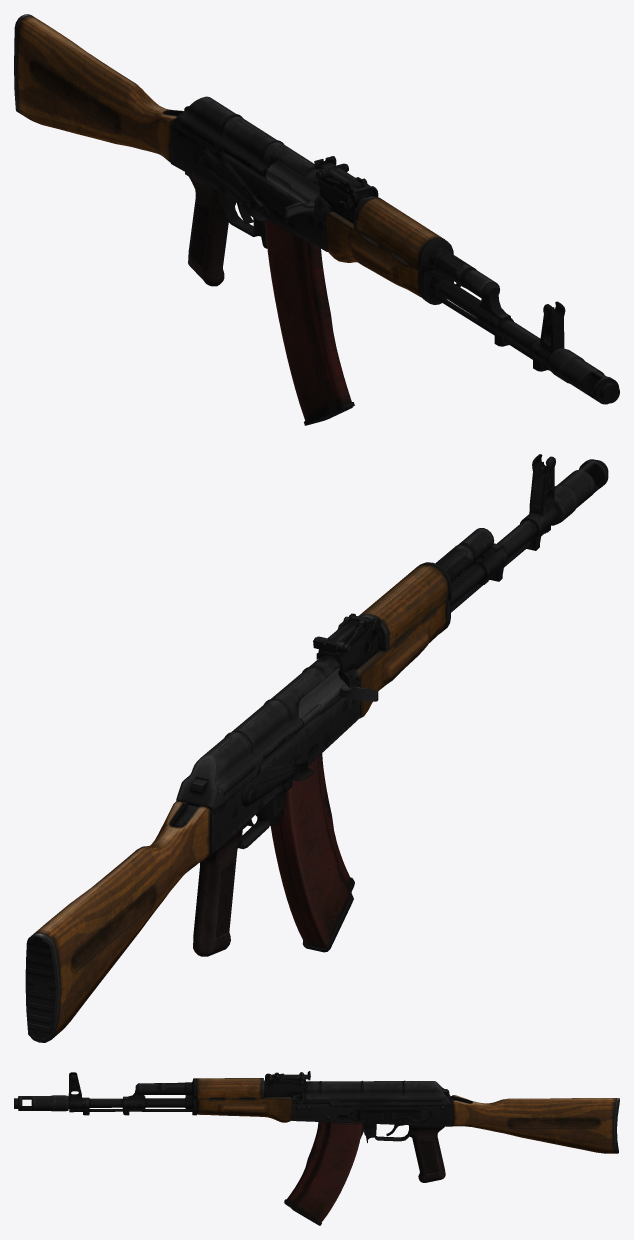
Rendered from weapon_ak47.fbx.
3 views of the same model, one above another, from view 1: azimuth 30°, elevation 25°; view 2: azimuth 150°, elevation 25°; view 3: azimuth 270°, elevation 25° (orthographic). The views are drawn at different scales.
Parts seen in each view (by area): view 1: SMDImport; view 2: SMDImport; view 3: SMDImport.
Part boxes in pixels (<box>): SMDImport: <box>14,14,619,425</box>; SMDImport: <box>25,454,608,1042</box>; SMDImport: <box>14,1071,619,1225</box>.
Bounding box in the file's own units: 7.39 × 26.12 × 93.
1 material, 1 textured.
